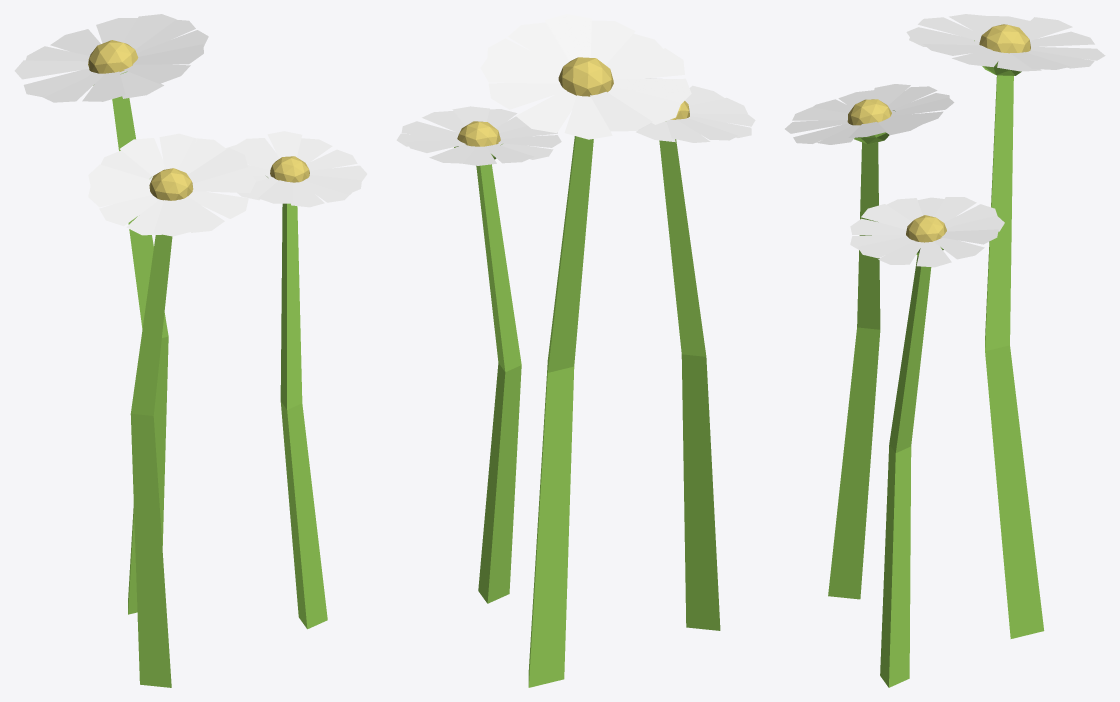
Rendered from WhiteFlower.glb.
3 views of the same model, side by side, from view 1: azimuth 30°, elevation 25°; view 2: azimuth 150°, elevation 25°; view 3: azimuth 270°, elevation 25° (orthographic). The views are drawn at different scales.
Visible parts, largest first — view 1: Cylinder; view 2: Cylinder; view 3: Cylinder.
Boxes of the visible parts, left/top/right/bottom form: Cylinder: left=14, top=14, right=366, bottom=687; Cylinder: left=396, top=14, right=755, bottom=687; Cylinder: left=785, top=14, right=1105, bottom=687.
Bounding box in the file's own units: 0.1522 × 0.2912 × 0.1435.
